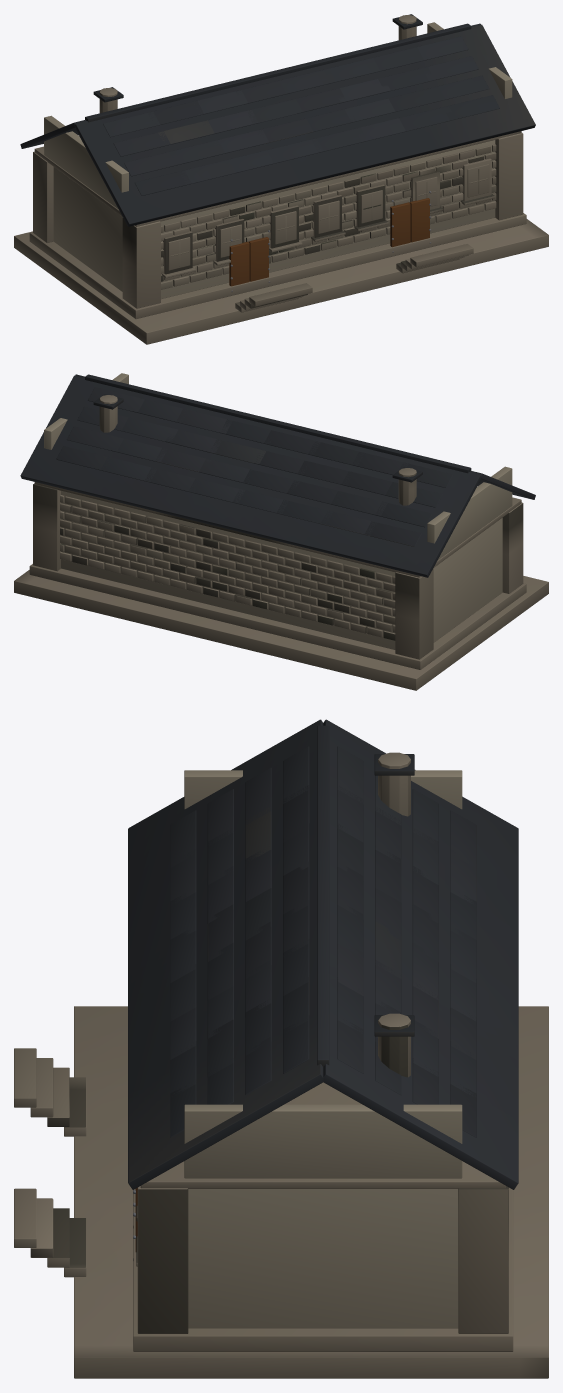
Rendered from building_royal_barracks.fbx.
3 renders of one model, top to bottom at view 1: azimuth 30°, elevation 25°; view 2: azimuth 150°, elevation 25°; view 3: azimuth 270°, elevation 25°, orthographic. The views are drawn at different scales.
Parts seen in each view (by area): view 1: building_royal_barracks; view 2: building_royal_barracks; view 3: building_royal_barracks.
Boxes of the visible parts, <box> form: building_royal_barracks: <box>14,14,548,344</box>; building_royal_barracks: <box>14,373,548,690</box>; building_royal_barracks: <box>14,719,548,1378</box>.
Size of the model in its own units: 14.14 by 5.83 by 9.01.
